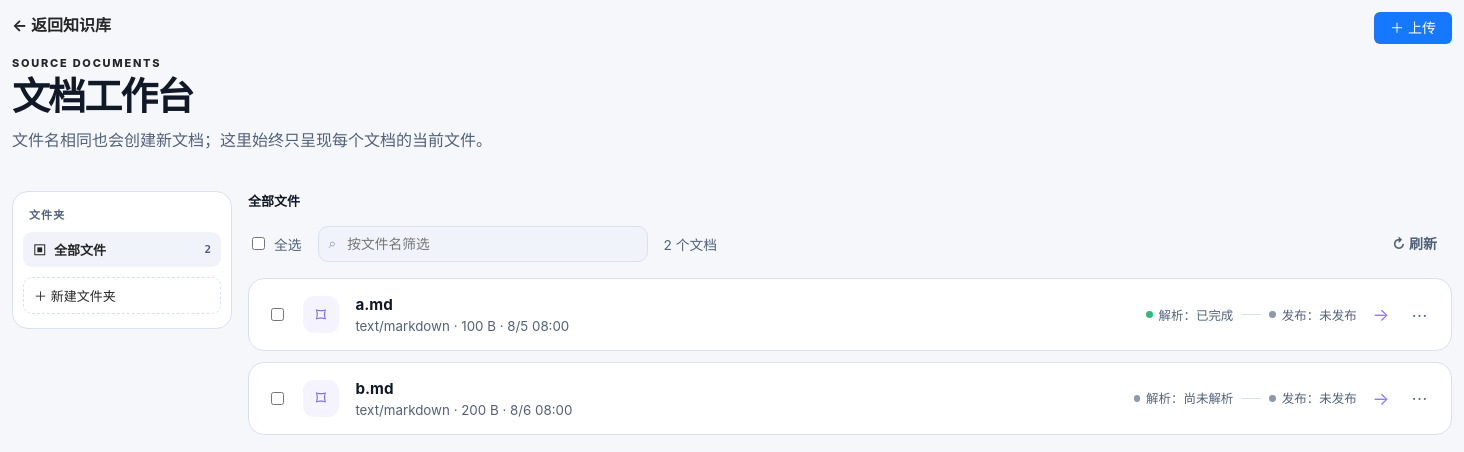
DocumentsView › 勾选文档后出现批量删除按钮
Click the checkbox with test id "select-doc-1".
click(277, 314)  # box [271,308,284,321]
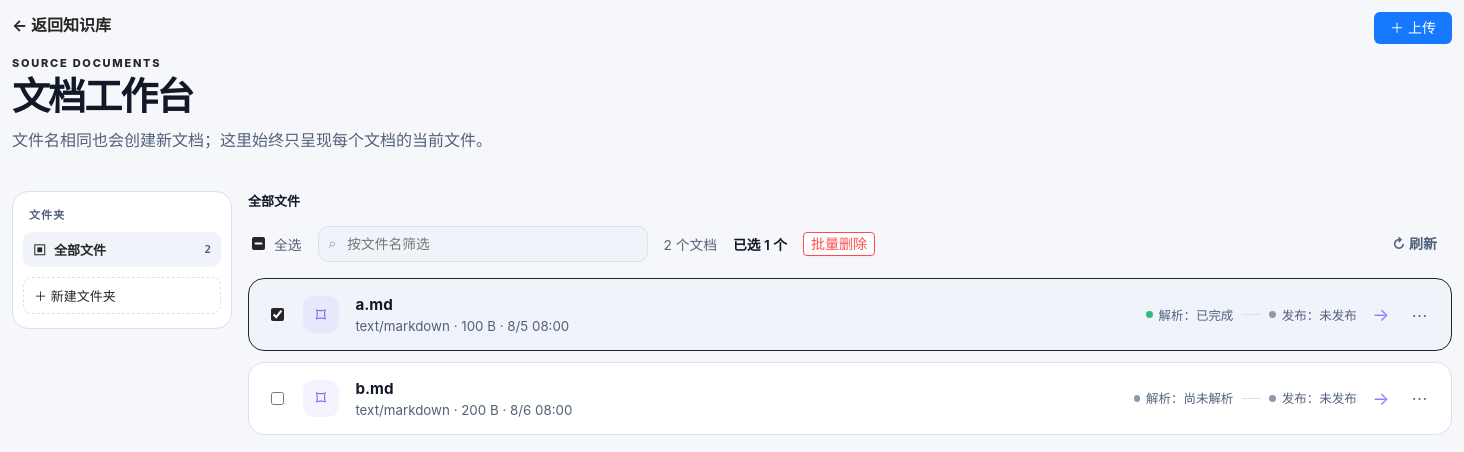
Now the button with test id "batch-delete-btn" is shown, box [803,232,875,256]
Now the text "已选 1 个" is shown, box [733,234,787,254]
